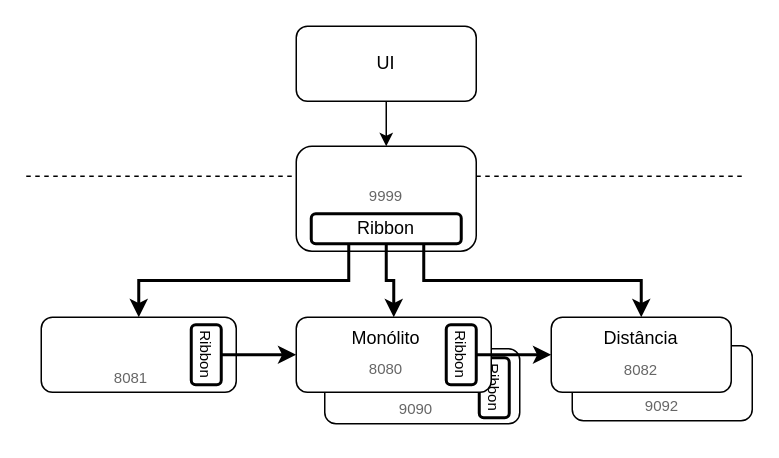
This 779x458 diagram has some shape labels left out. Each missing label, with the box of its shape:
API Gateway: (295, 145, 476, 251)
Pagamentos: (40, 316, 236, 392)
